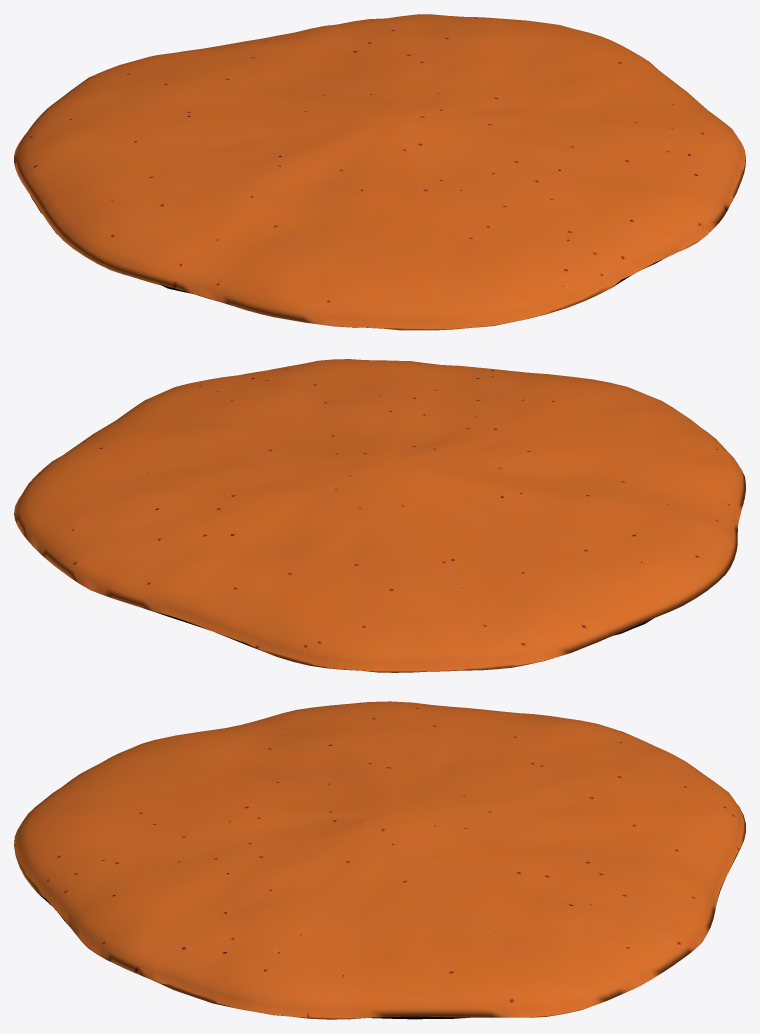
The model's file is mayo_tandoori.glb.
3 renders of one model, top to bottom at view 1: azimuth 30°, elevation 25°; view 2: azimuth 150°, elevation 25°; view 3: azimuth 270°, elevation 25°, orthographic. The views are drawn at different scales.
Visible parts, largest first — view 1: EX_Mayo_tandoori; view 2: EX_Mayo_tandoori; view 3: EX_Mayo_tandoori.
Part boxes in pixels (x1,y1,x2,y2): EX_Mayo_tandoori: (14,14,745,330); EX_Mayo_tandoori: (14,359,745,672); EX_Mayo_tandoori: (14,701,745,1019).
Bounding box in the file's own units: 0.0923 × 0.00807 × 0.0924.
1 material, 1 textured.
